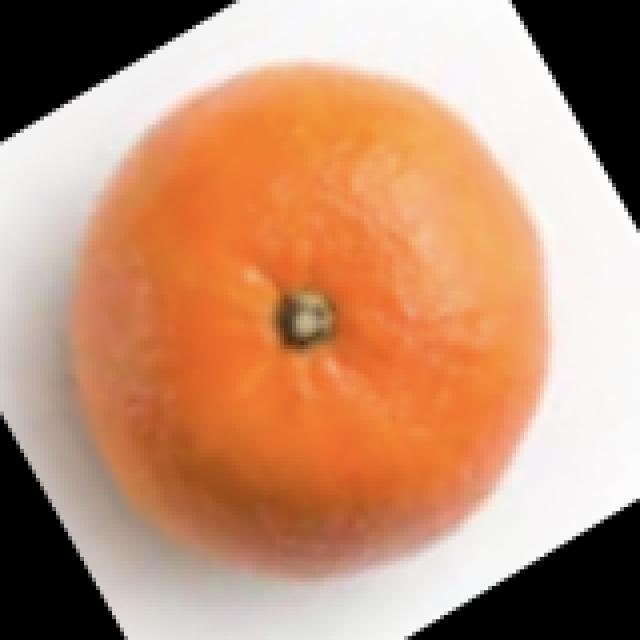Orange: (69, 58, 550, 581)
